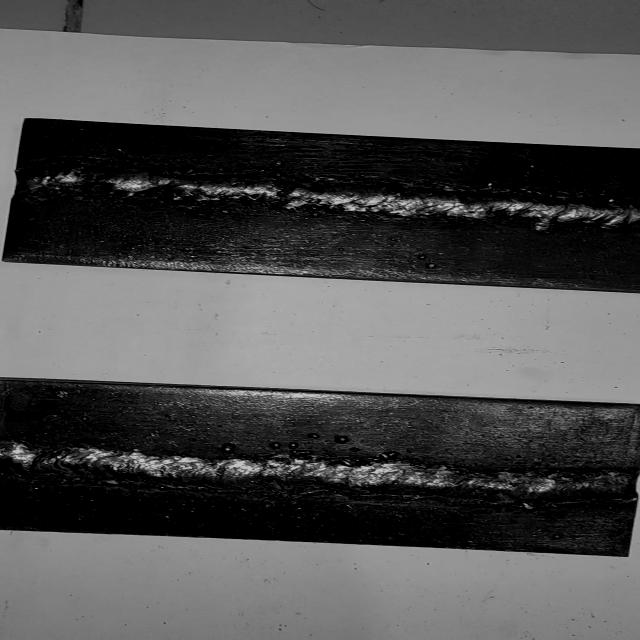Bad Weld: (28, 162, 640, 226)
Defect: (6, 158, 110, 208)
Good Weld: (5, 445, 634, 500)
